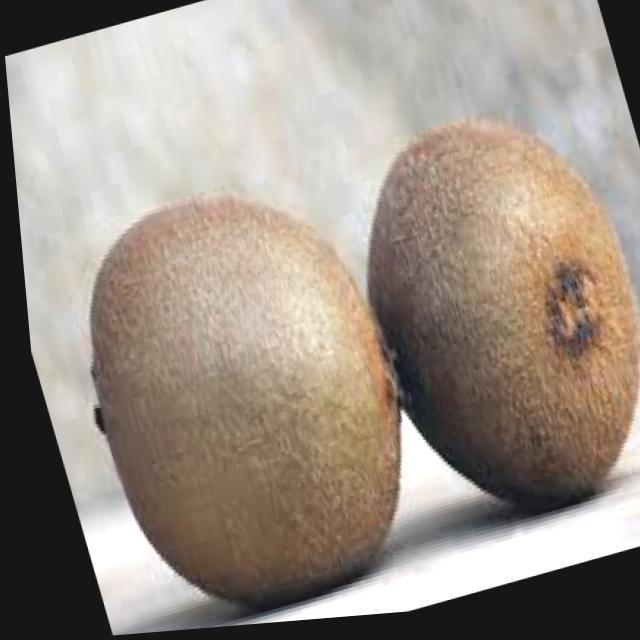kiwi: (37, 158, 436, 639), (312, 84, 640, 551)
